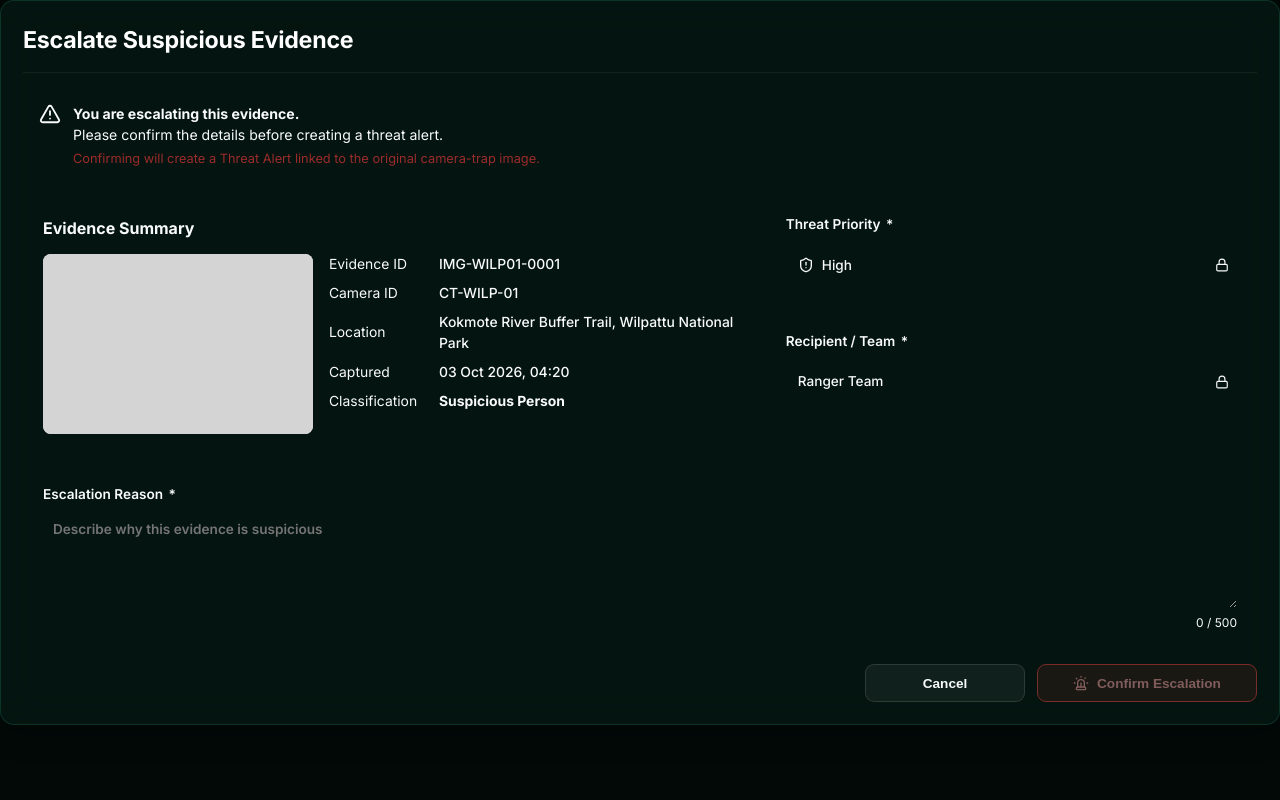
Test: EscalateEvidenceView - Escalation Reason › the counter updates while typing
In the text box labelled "Escalation Reason *": (640, 559) 43,511 -> 1237,608, type "Rifle"
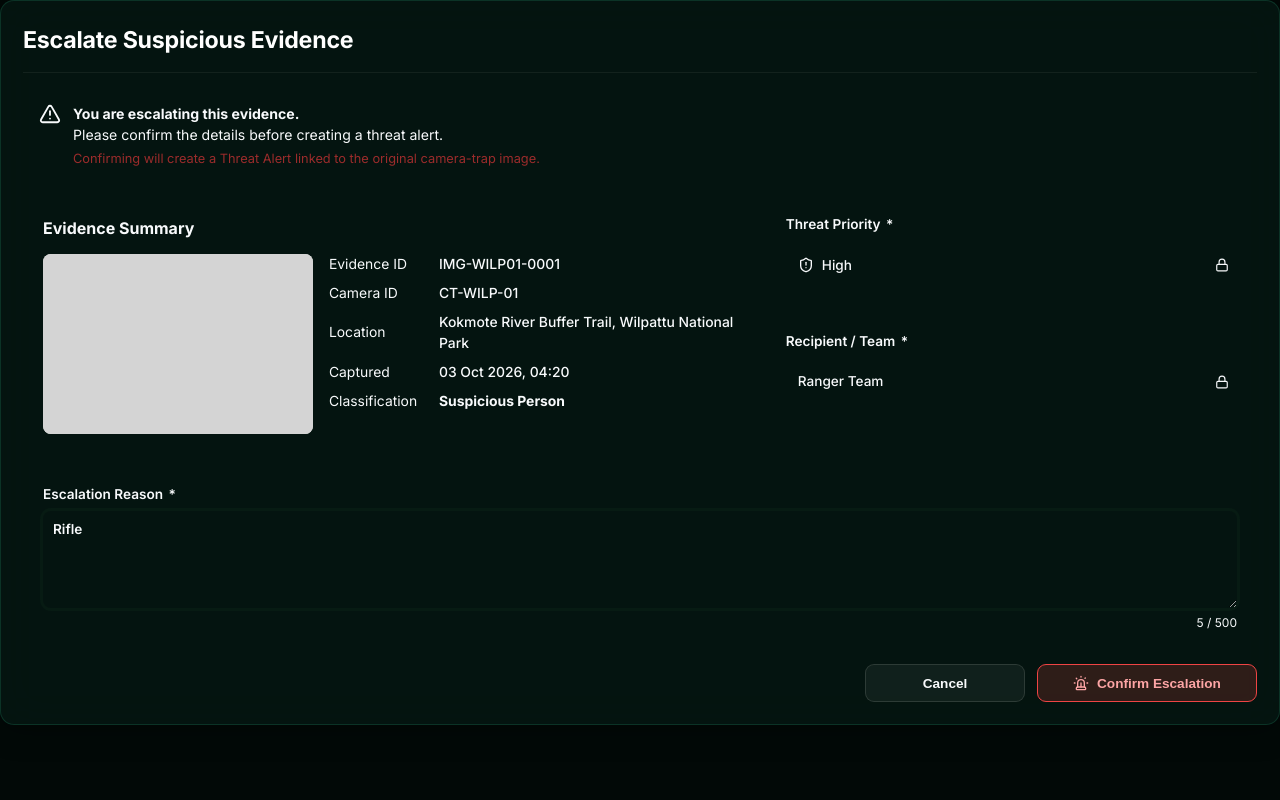
Check: the text "5 / 500" is shown, box 1196,614 -> 1237,632
